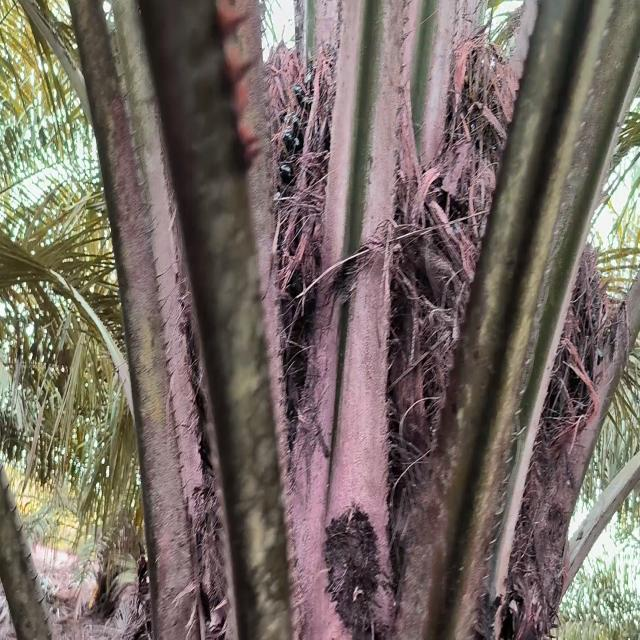palm-oil: (274, 49, 330, 254)
